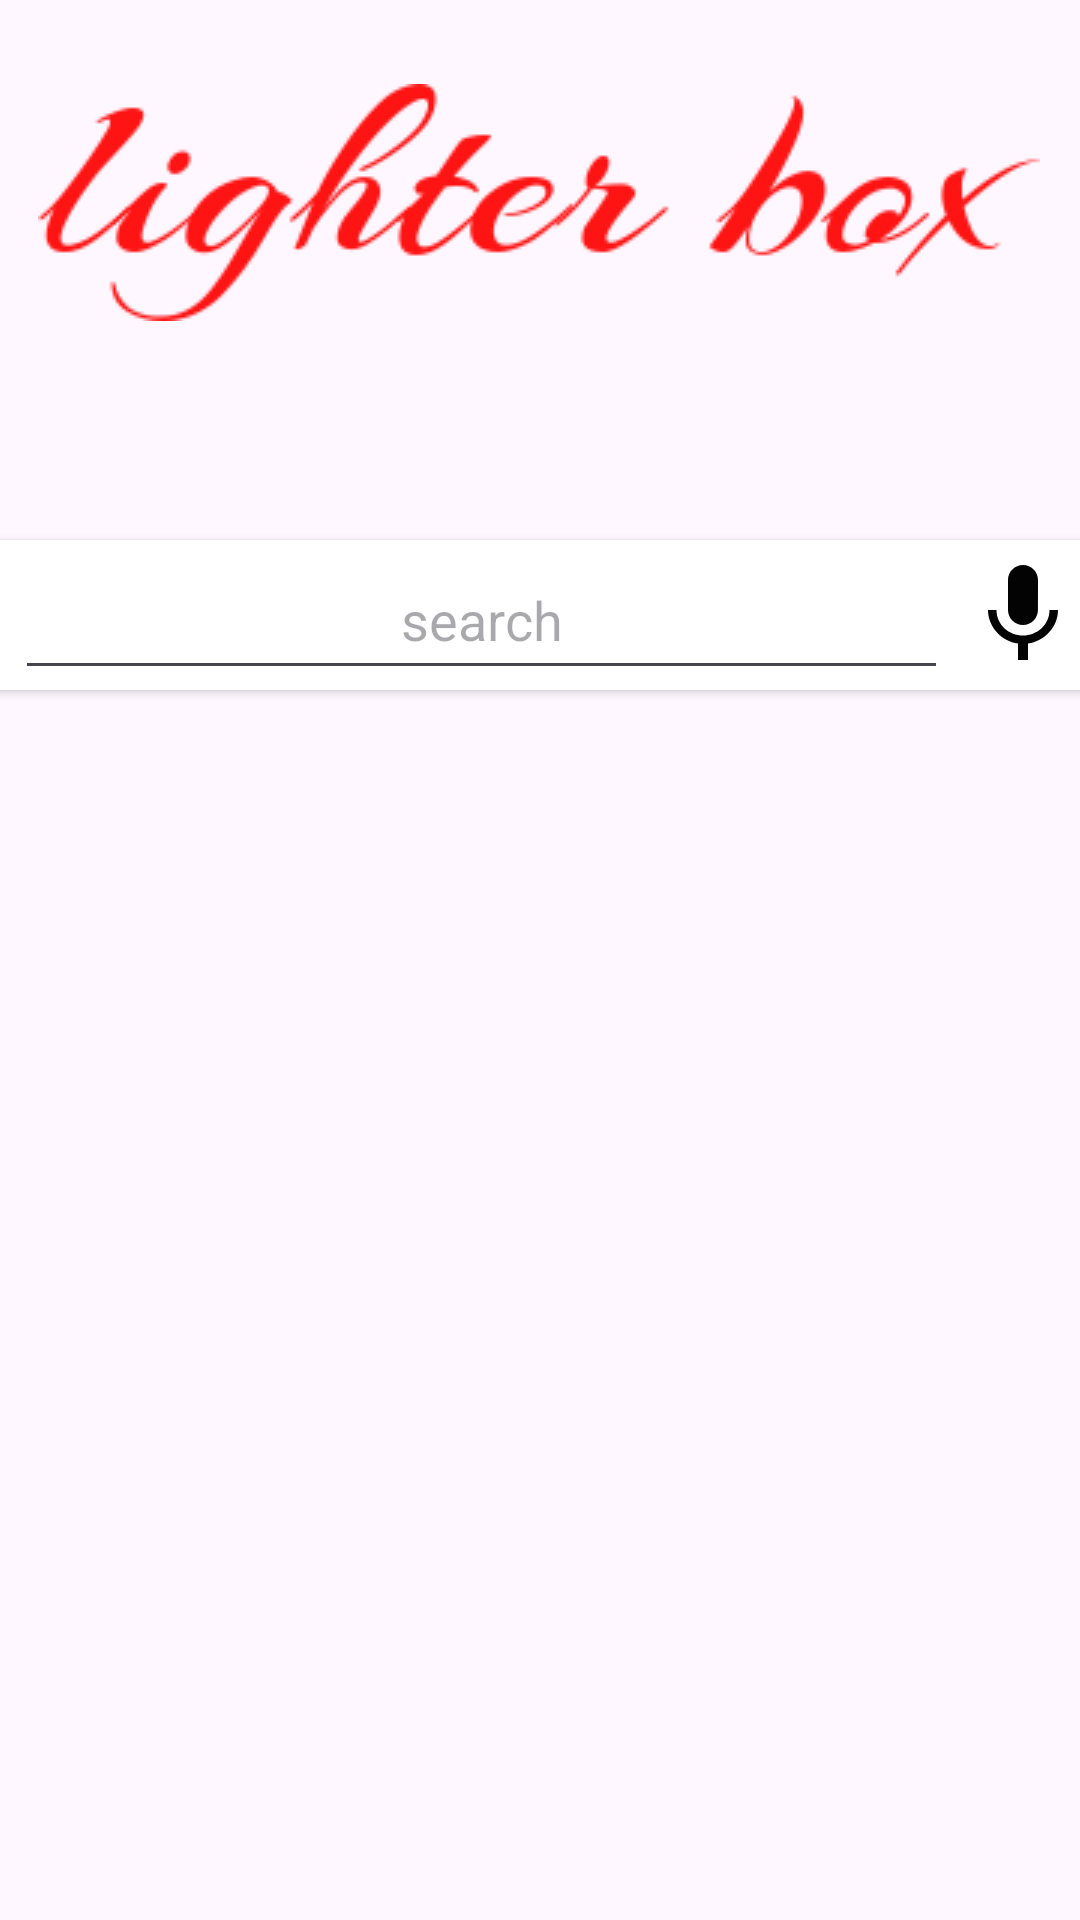

Where icons sit on this 1080x1920 app screen, as (x1, y1, x2, y2):
speak: (988, 565, 1058, 660)
